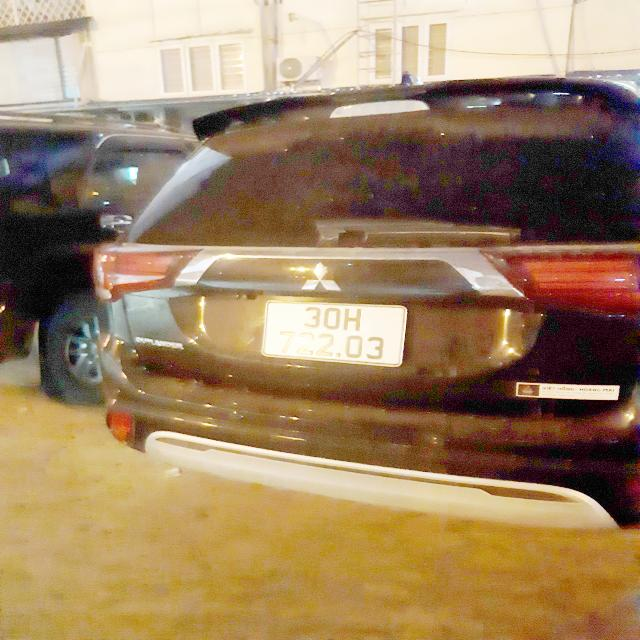license_plate: (254, 297, 418, 373)
